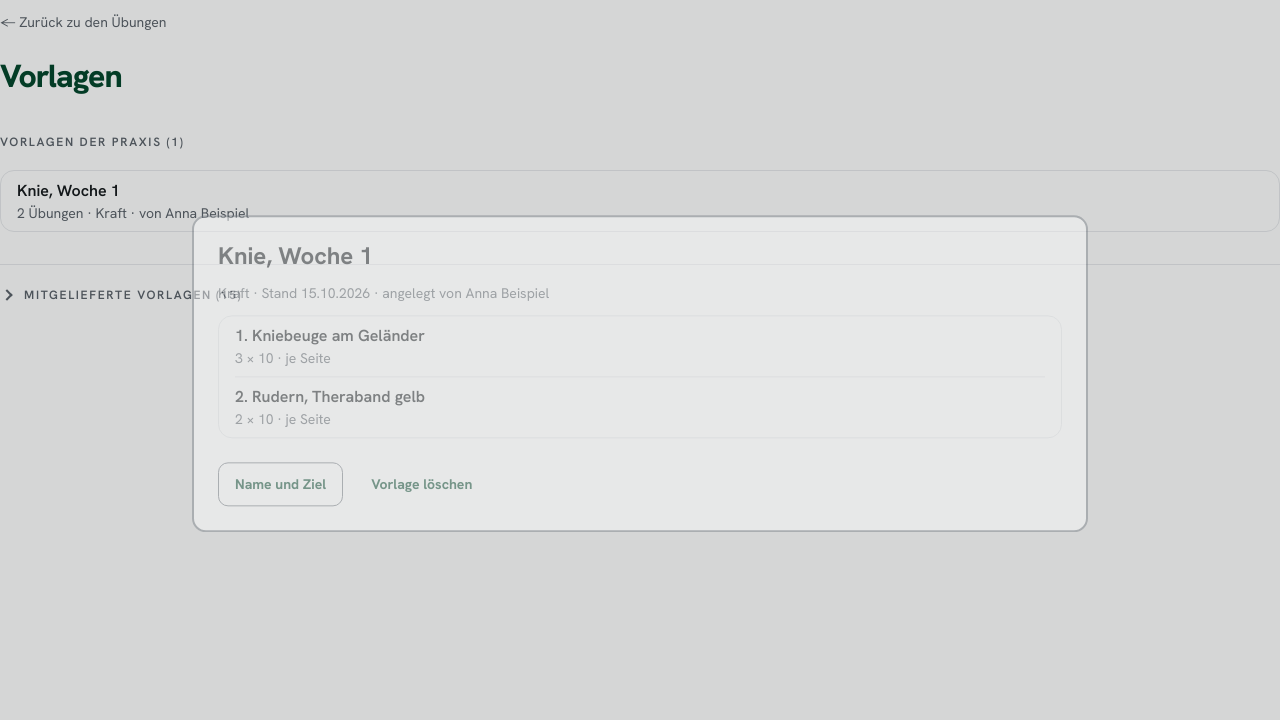
it: VorlagenPage (UEB-014) › benennt um, ohne die Übungen mitzuschicken
The image size is (1280, 720).
Click the button "Knie, Woche 1 2 Übungen · Kraft · von Anna Beispiel": coordinates (68, 190) [1,171,1279,231]
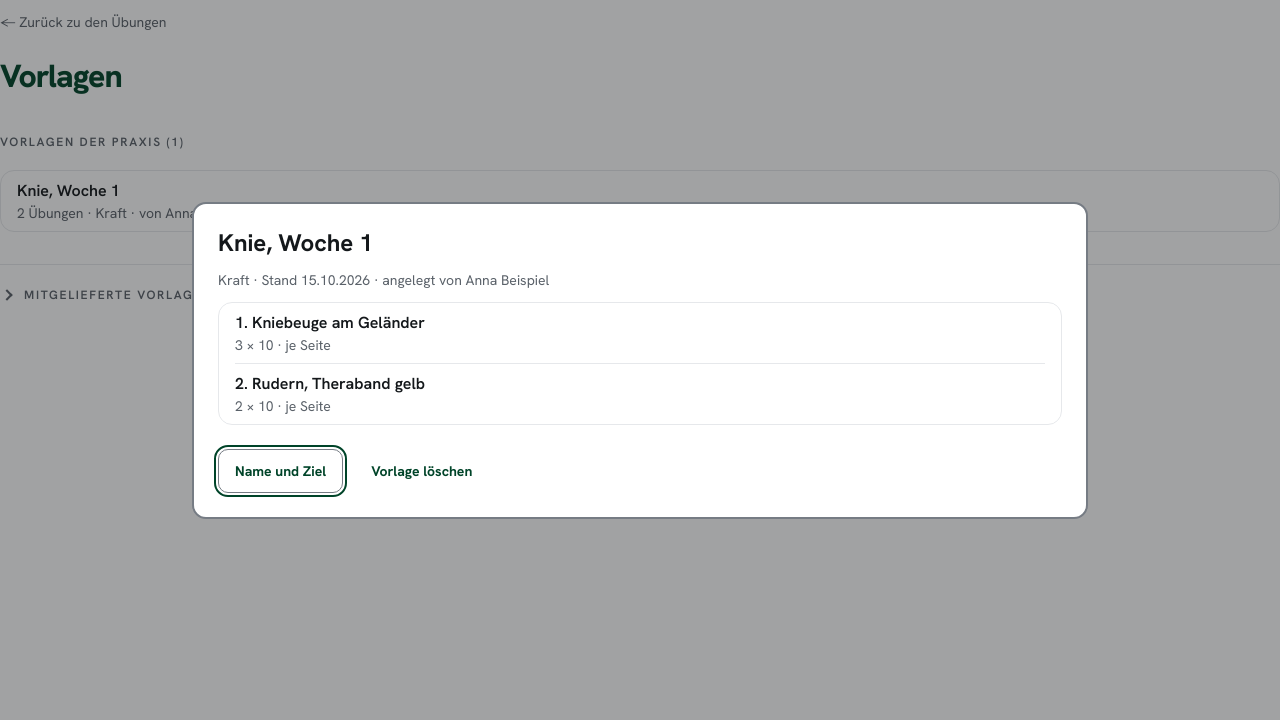
Click the button "Name und Ziel": coordinates (281, 470) [218,448,343,492]
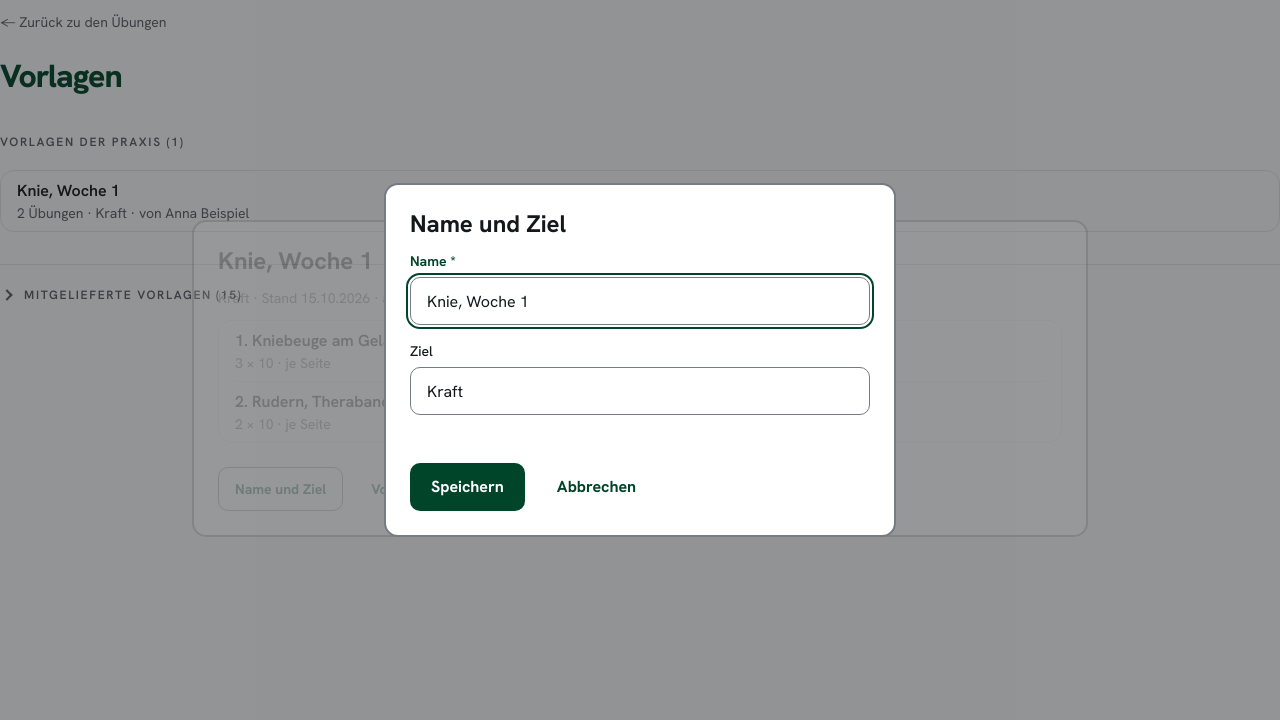
Replace the text in the field labelled "Name *" with "Knie, Woche 2": coordinates (640, 301) [410,277,870,325]
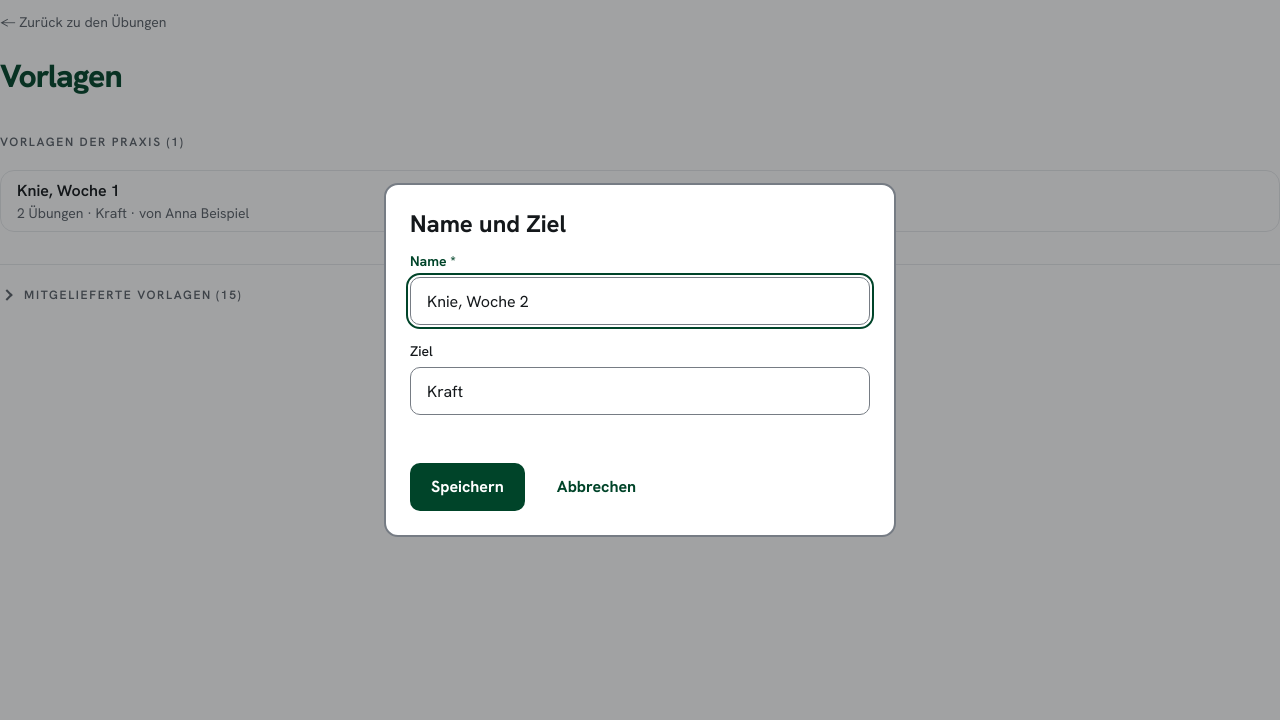
Click the button "Speichern": coordinates (467, 487) [410,463,525,511]
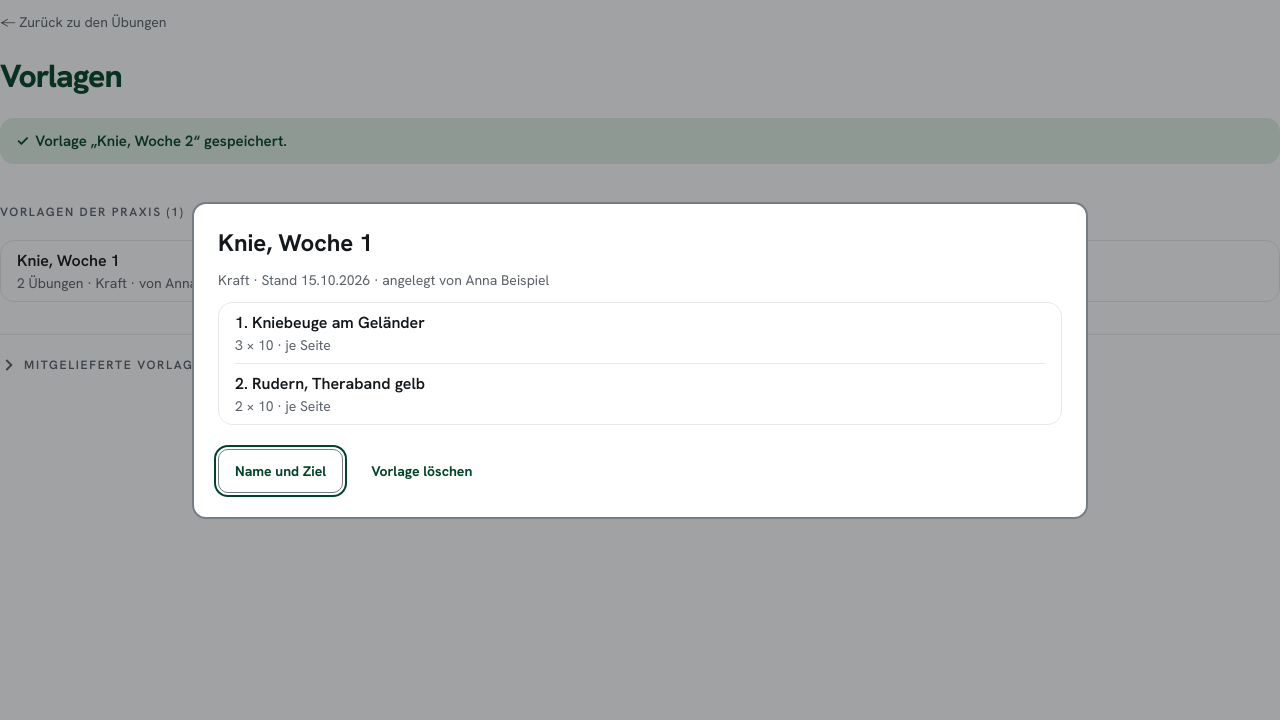
Result: the text "Vorlage „Knie, Woche 2“ gespeichert." is shown at [35,131,287,151]
